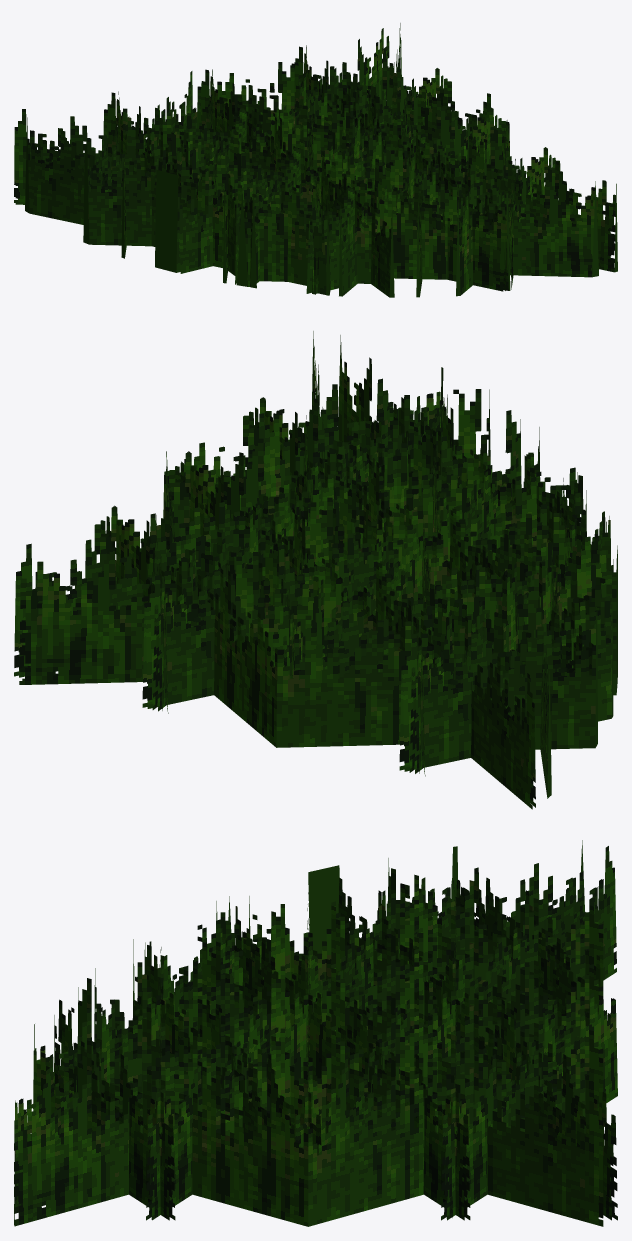
Rendered from grass_patch_corner_summer.glb.
The picture shows the model from 3 angles, top to bottom: view 1: azimuth 30°, elevation 25°; view 2: azimuth 150°, elevation 25°; view 3: azimuth 270°, elevation 25°; orthographic projection. The views are drawn at different scales.
Visible parts, largest first — view 1: grass_patch_corner; view 2: grass_patch_corner; view 3: grass_patch_corner.
Part boxes in pixels (bbox=[...]): grass_patch_corner: bbox=[14, 23, 617, 297]; grass_patch_corner: bbox=[14, 331, 617, 809]; grass_patch_corner: bbox=[14, 840, 617, 1226].
Size of the model in its own units: 1.64 by 0.4 by 1.64.
1 material, 1 textured.
